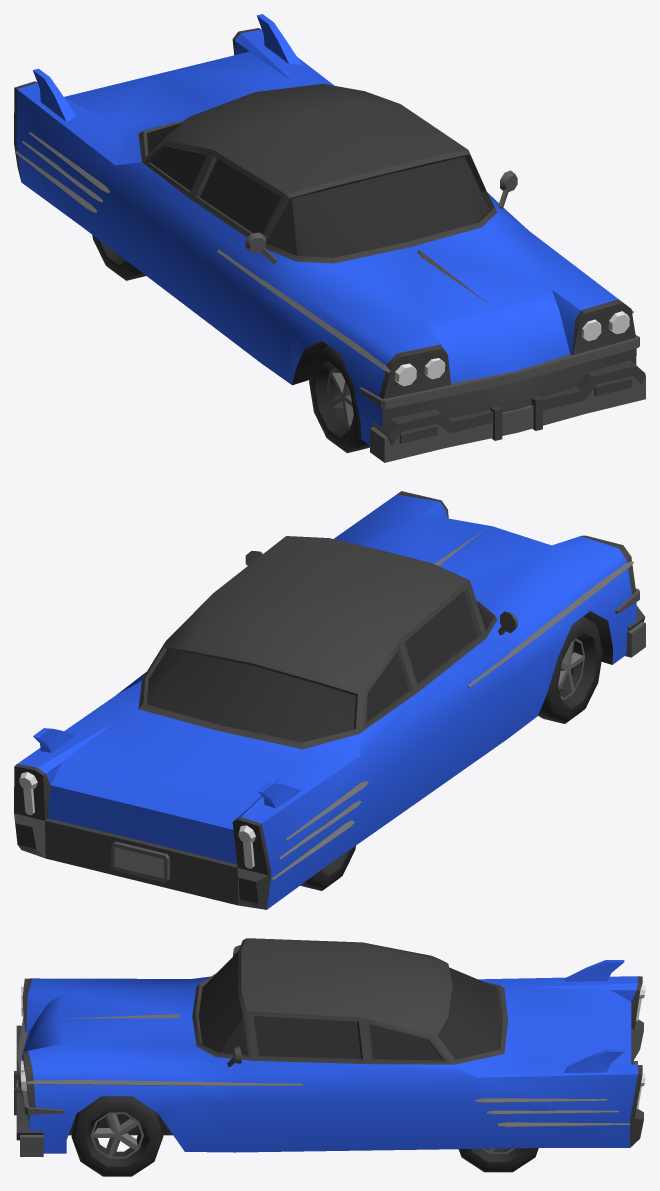
The model's file is mobil.fbx.
The picture shows the model from 3 angles, top to bottom: view 1: azimuth 30°, elevation 25°; view 2: azimuth 150°, elevation 25°; view 3: azimuth 270°, elevation 25°; orthographic projection. The views are drawn at different scales.
Visible parts, largest first — view 1: car_base.002, wheel1.007, wheel2.003; view 2: car_base.002, wheel1.007, wheel2.003; view 3: car_base.002, wheel1.003, wheel2.001.
Part boxes in pixels (bbox=[...]): car_base.002: bbox=[14, 14, 645, 462]; wheel1.007: bbox=[309, 345, 369, 453]; wheel2.003: bbox=[92, 235, 145, 280]; car_base.002: bbox=[14, 491, 645, 909]; wheel1.007: bbox=[538, 616, 602, 723]; wheel2.003: bbox=[300, 846, 355, 890]; car_base.002: bbox=[14, 938, 645, 1156]; wheel1.003: bbox=[71, 1096, 163, 1176]; wheel2.001: bbox=[458, 1148, 538, 1172].
Size of the model in its own units: 216 by 151 by 534.
